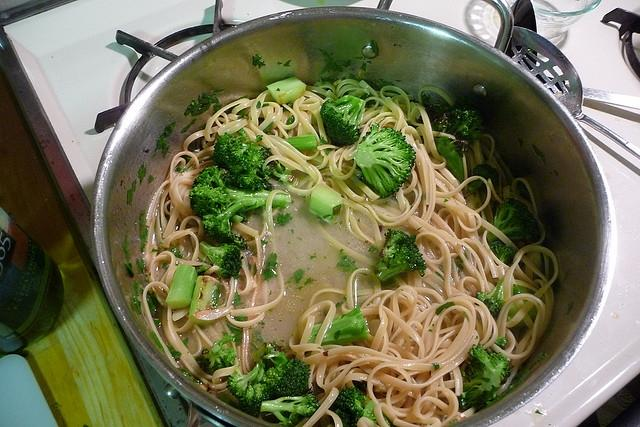broccoli: (190, 166, 288, 248), (425, 96, 485, 184), (352, 124, 417, 199), (211, 128, 279, 192), (458, 344, 511, 411), (474, 280, 538, 328), (372, 228, 427, 282), (227, 359, 277, 418), (308, 306, 370, 346), (487, 198, 540, 244), (320, 95, 366, 146), (194, 335, 240, 376), (199, 241, 244, 280), (189, 275, 221, 327), (328, 387, 366, 427), (166, 264, 198, 310), (309, 183, 341, 222), (266, 76, 308, 105), (468, 164, 499, 192), (489, 240, 516, 262)
